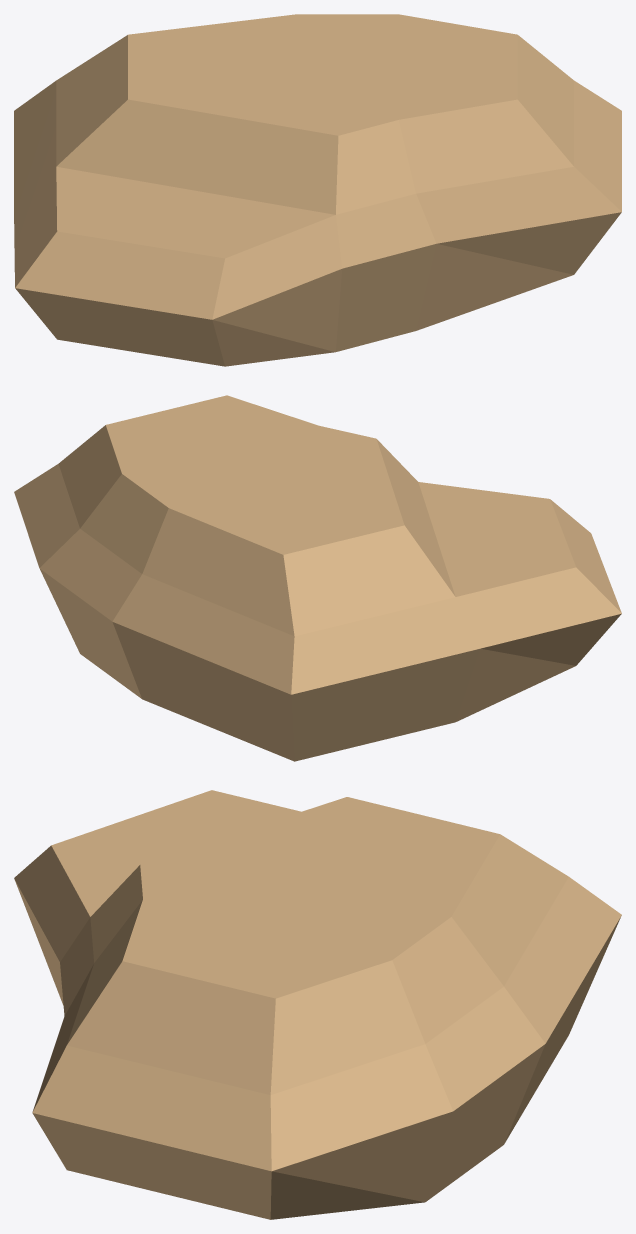
File: 04 Big_stone_1.FBX
The picture shows the model from 3 angles, top to bottom: view 1: azimuth 30°, elevation 25°; view 2: azimuth 150°, elevation 25°; view 3: azimuth 270°, elevation 25°; orthographic projection. The views are drawn at different scales.
Parts seen in each view (by area): view 1: Stone_lit_006; view 2: Stone_lit_006; view 3: Stone_lit_006.
Boxes of the visible parts, x1,y1,x2,y2 form: Stone_lit_006: (14,14,621,366); Stone_lit_006: (14,395,621,761); Stone_lit_006: (14,790,621,1219).
Bounding box in the file's own units: 4193 × 1225 × 3007.
